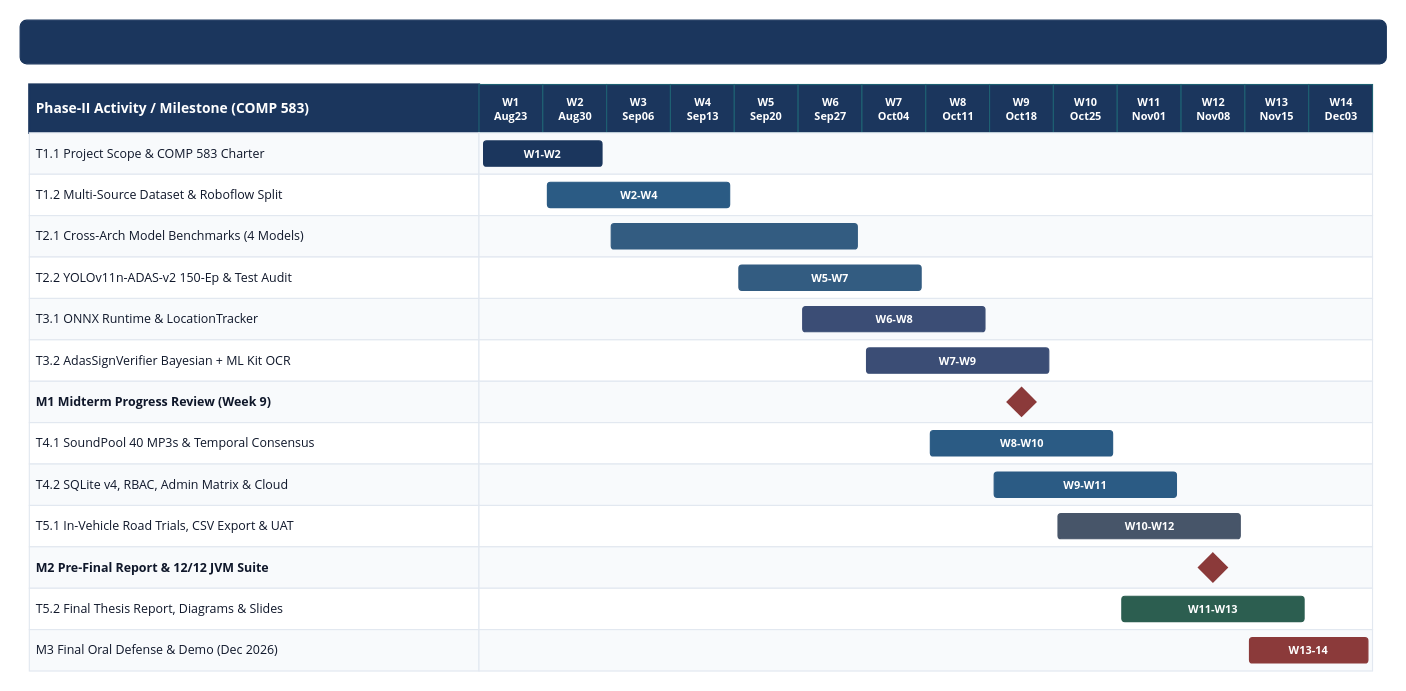
Image size: 1406x691. Some labels were removed from this diagram. The shapes that lost their labels are listed below. From the top down, each one's centre as x and y in pixels, then its label:
the point at 702,41: COMP 583 Graduation Project Phase-II Gantt Chart (Aug - Dec 2026)
the point at 733,236: W3-W6
